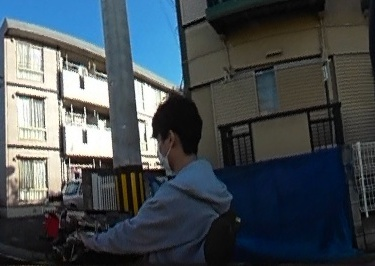person: (126, 91, 226, 266)
